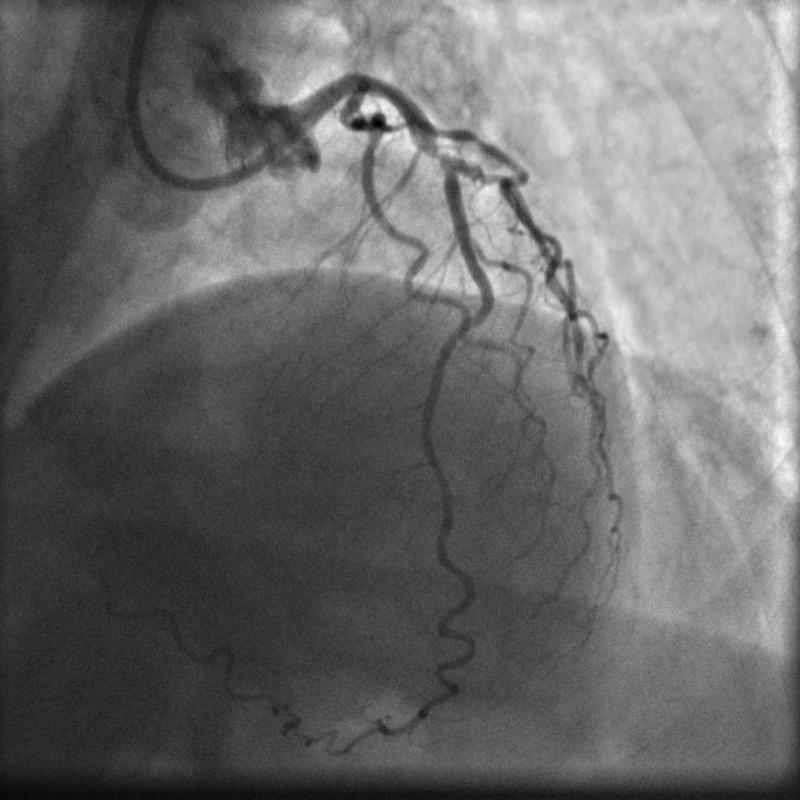Stenosis: (415, 137, 459, 165)
